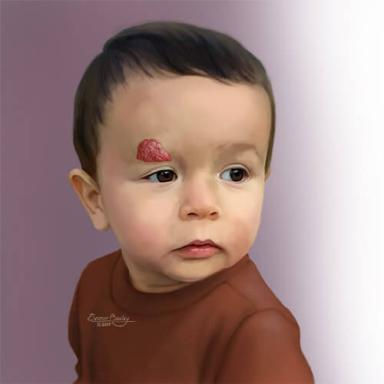Hemangiome: (137, 139, 172, 162)
